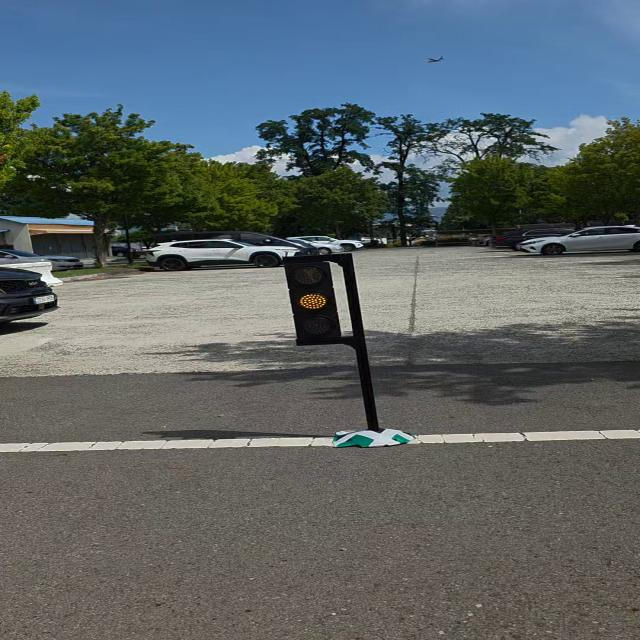yellow: (283, 256, 347, 346)
